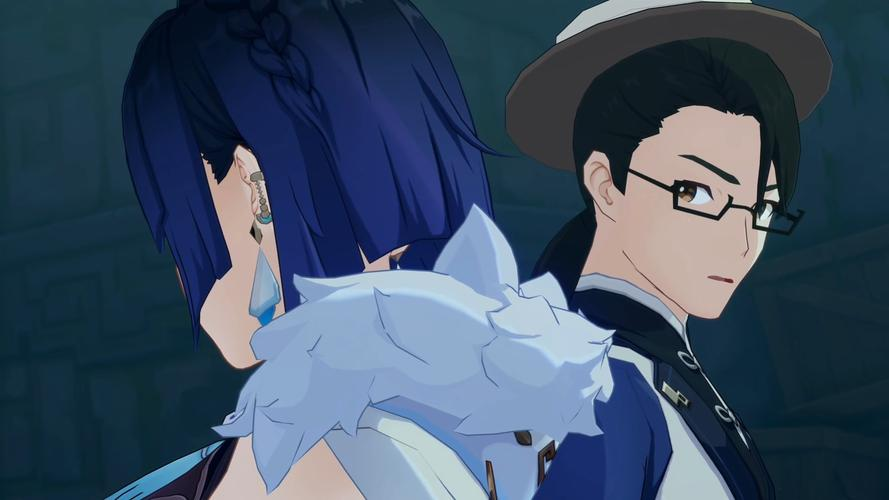夜兰: (104, 1, 618, 500)
